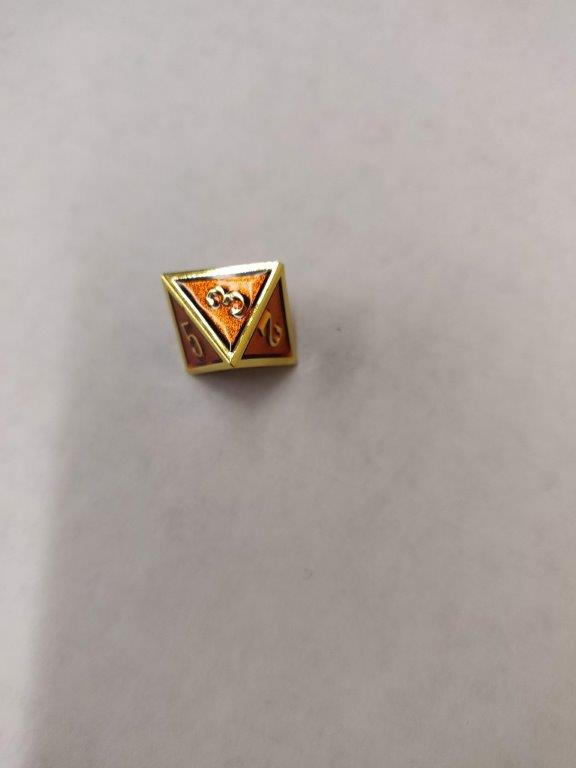d8-3: (159, 259, 299, 383)
